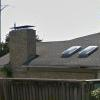Chimney: (4, 18, 50, 77)
